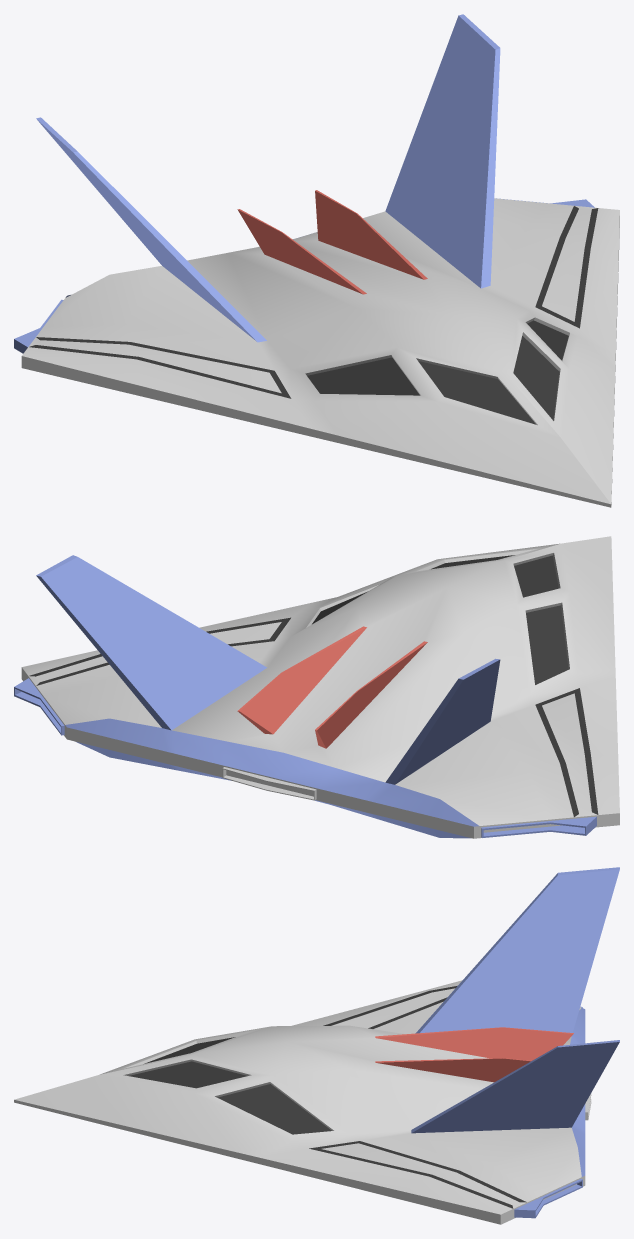
Rendered from ship_13.fbx.
3 renders of one model, top to bottom at view 1: azimuth 30°, elevation 25°; view 2: azimuth 150°, elevation 25°; view 3: azimuth 270°, elevation 25°, orthographic. The views are drawn at different scales.
Parts seen in each view (by area): view 1: ship_13; view 2: ship_13; view 3: ship_13.
Boxes of the visible parts, left/top/right/bottom form: ship_13: left=14, top=14, right=619, bottom=507; ship_13: left=14, top=536, right=619, bottom=838; ship_13: left=14, top=867, right=619, bottom=1224.
Bounding box in the file's own units: 1153 × 373 × 1208.
